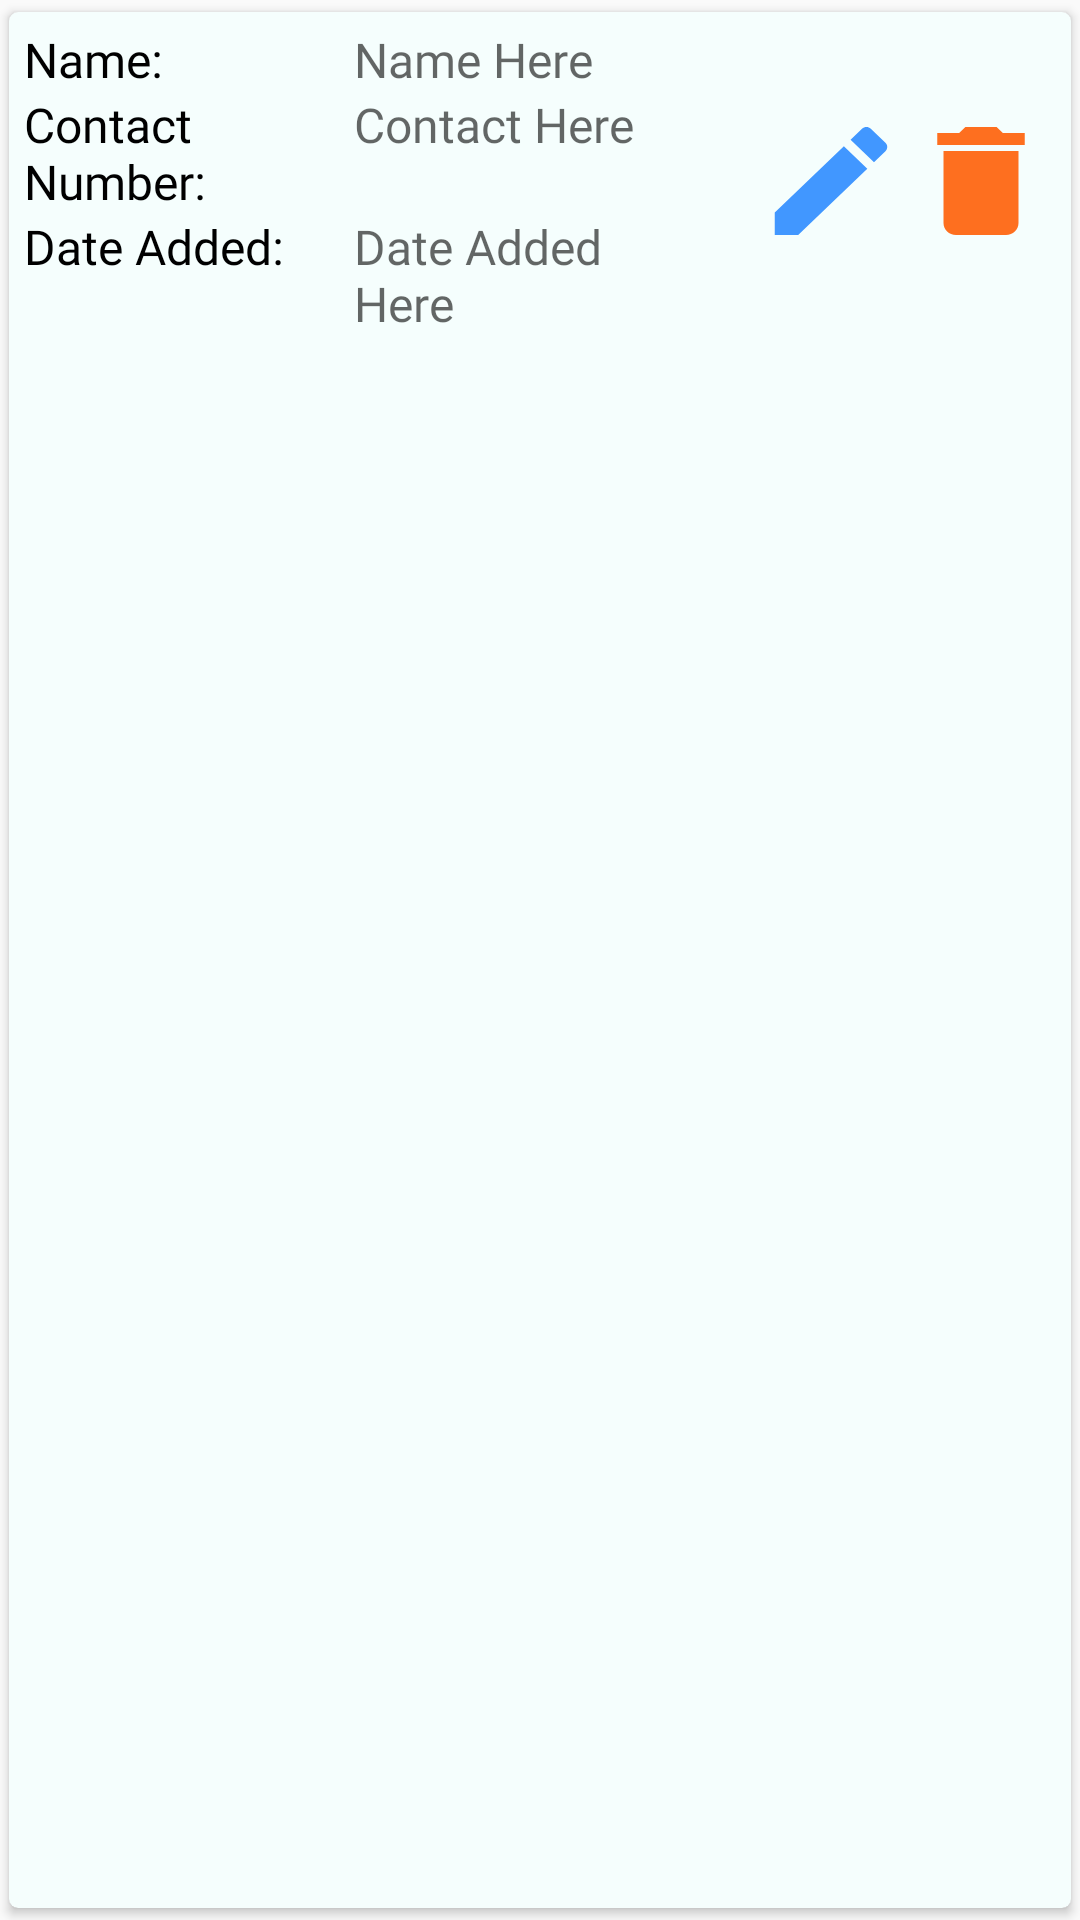

Named icons in this screenshot (1080*1920) and their bounding boxes, (x1, y1, x2, y2):
delete button: (937, 127, 1025, 235)
